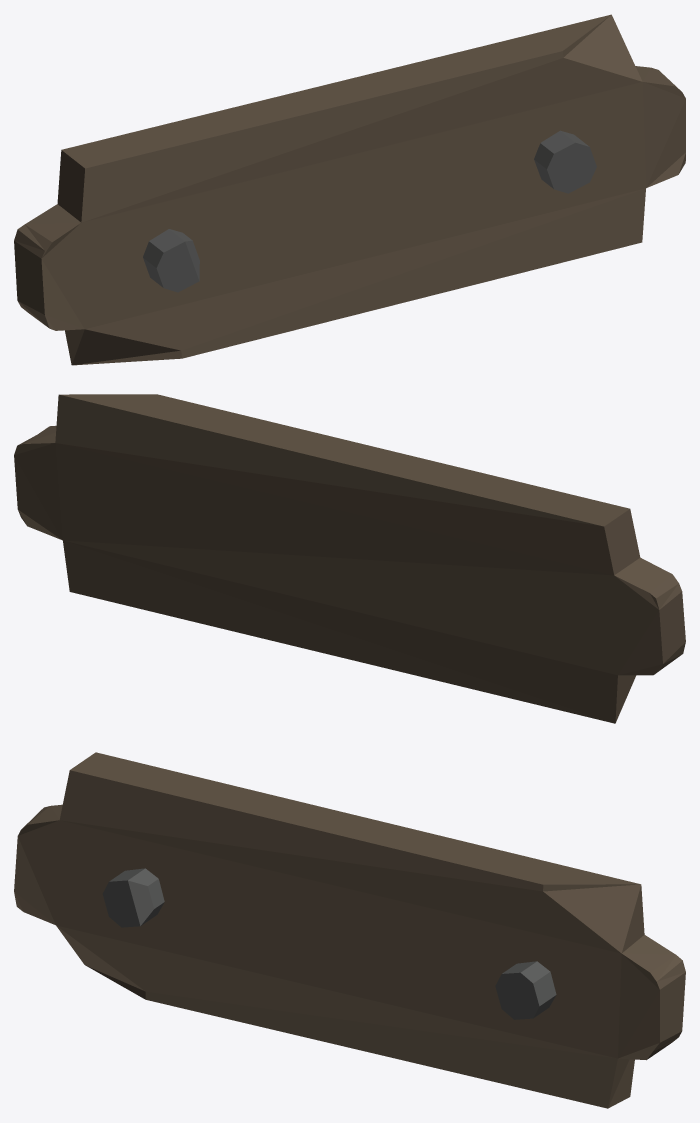
Rendered from Tag_001.fbx.
The picture shows the model from 3 angles, top to bottom: view 1: azimuth 30°, elevation 25°; view 2: azimuth 150°, elevation 25°; view 3: azimuth 330°, elevation 25°; orthographic projection.
Parts seen in each view (by area): view 1: Tag_001; view 2: Tag_001; view 3: Tag_001.
Boxes of the visible parts, x1,y1,x2,y2 form: Tag_001: [14, 14, 685, 365]; Tag_001: [14, 394, 685, 723]; Tag_001: [14, 752, 685, 1108].
Bounding box in the file's own units: 0.2964 × 0.0903 × 0.0375.
